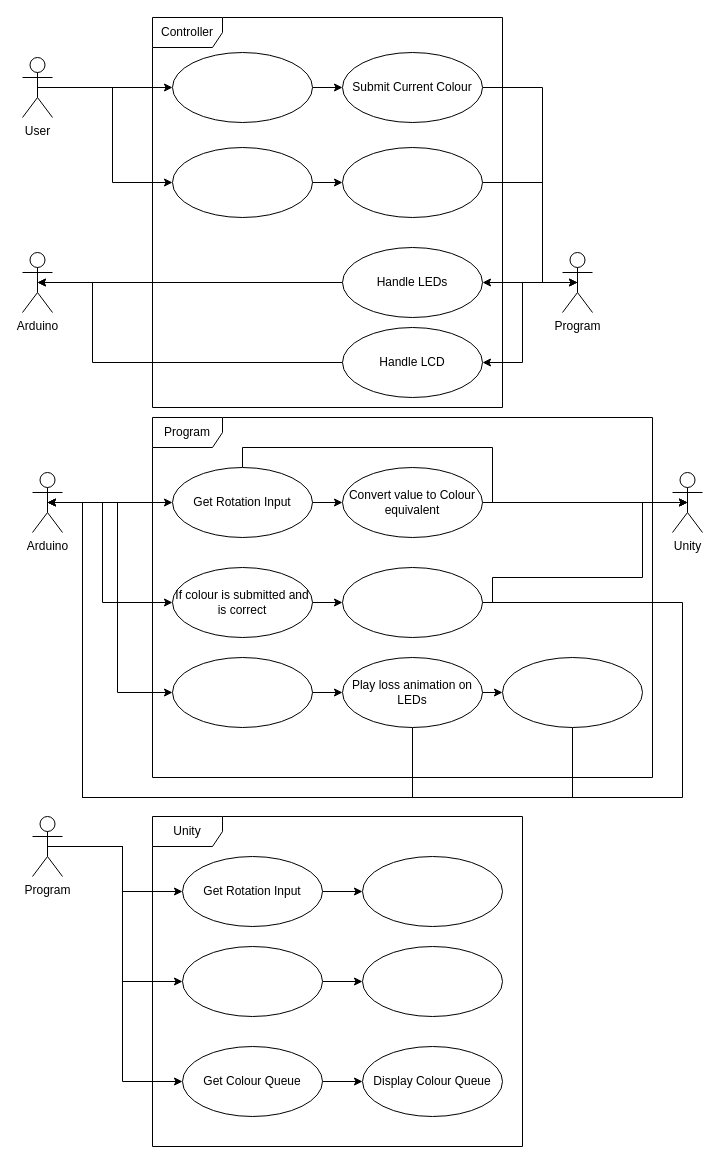
Some shapes in this 720 by 1164 pixel diagram are drawn without their labels. The box of each missing label's shape, as (x1, y1, x2, y2) in pixels:
Add new colour to the list and update LEDs: (342, 566, 482, 638)
Change Selected Colour: (342, 146, 482, 218)
Display Current Colour: (362, 946, 502, 1016)
Display Input: (362, 856, 502, 926)
Get Current Colour Selected: (182, 946, 322, 1016)
If colour is submitted and is incorrect: (172, 656, 312, 728)
Press Rotary Encoder: (172, 146, 312, 218)
Restart Game: (502, 656, 642, 728)
Turn Rotary Encoder: (172, 52, 312, 122)
